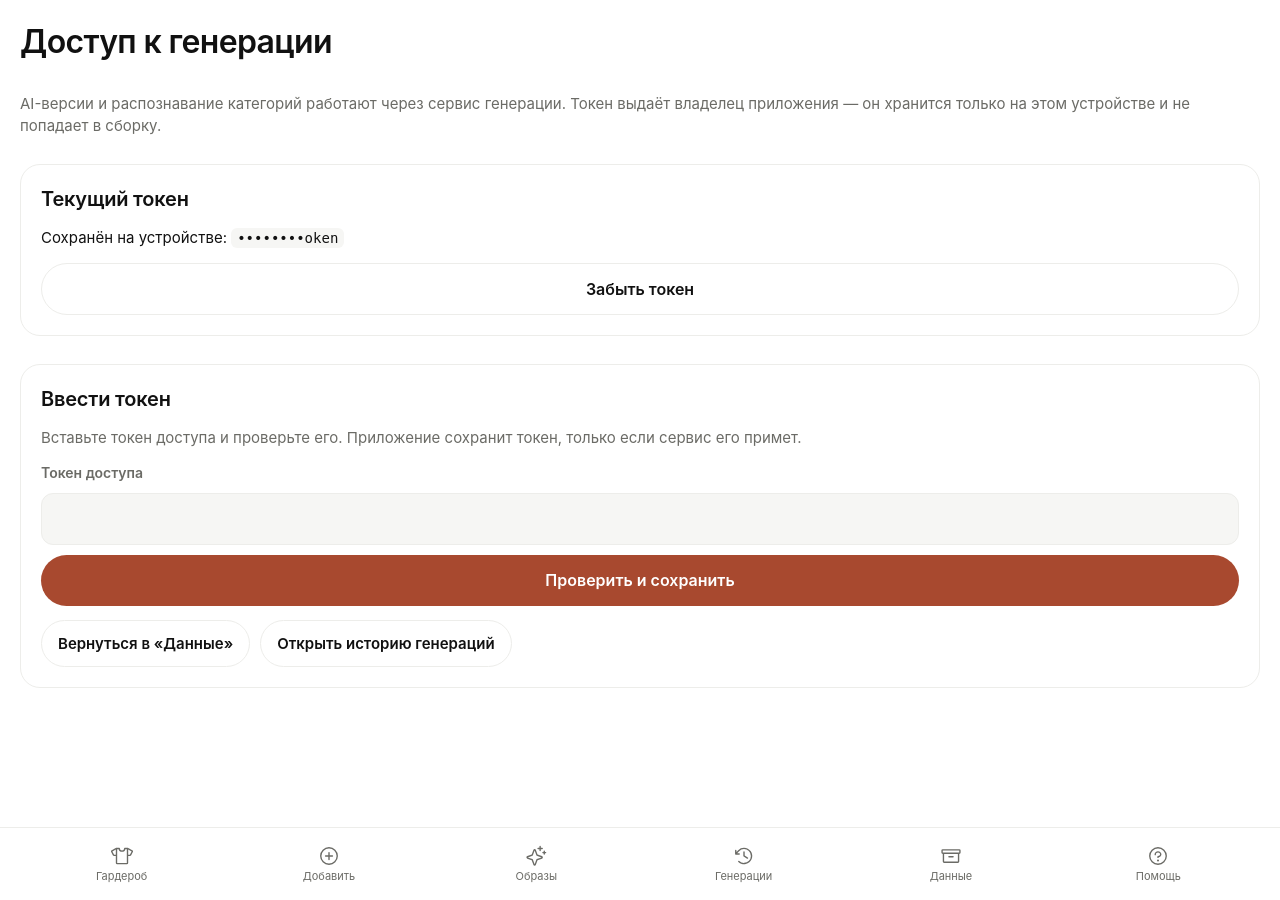
Test case: Экран доступа к генерации (T22) › «Забыть токен» стирает сохранённый токен
The width and height of the screenshot is (1280, 900).
Expected: the text "••••••••oken" is shown, [231,228,344,248]
Click the button "Забыть токен". click: point(640, 289)
box: [41,263,1239,315]
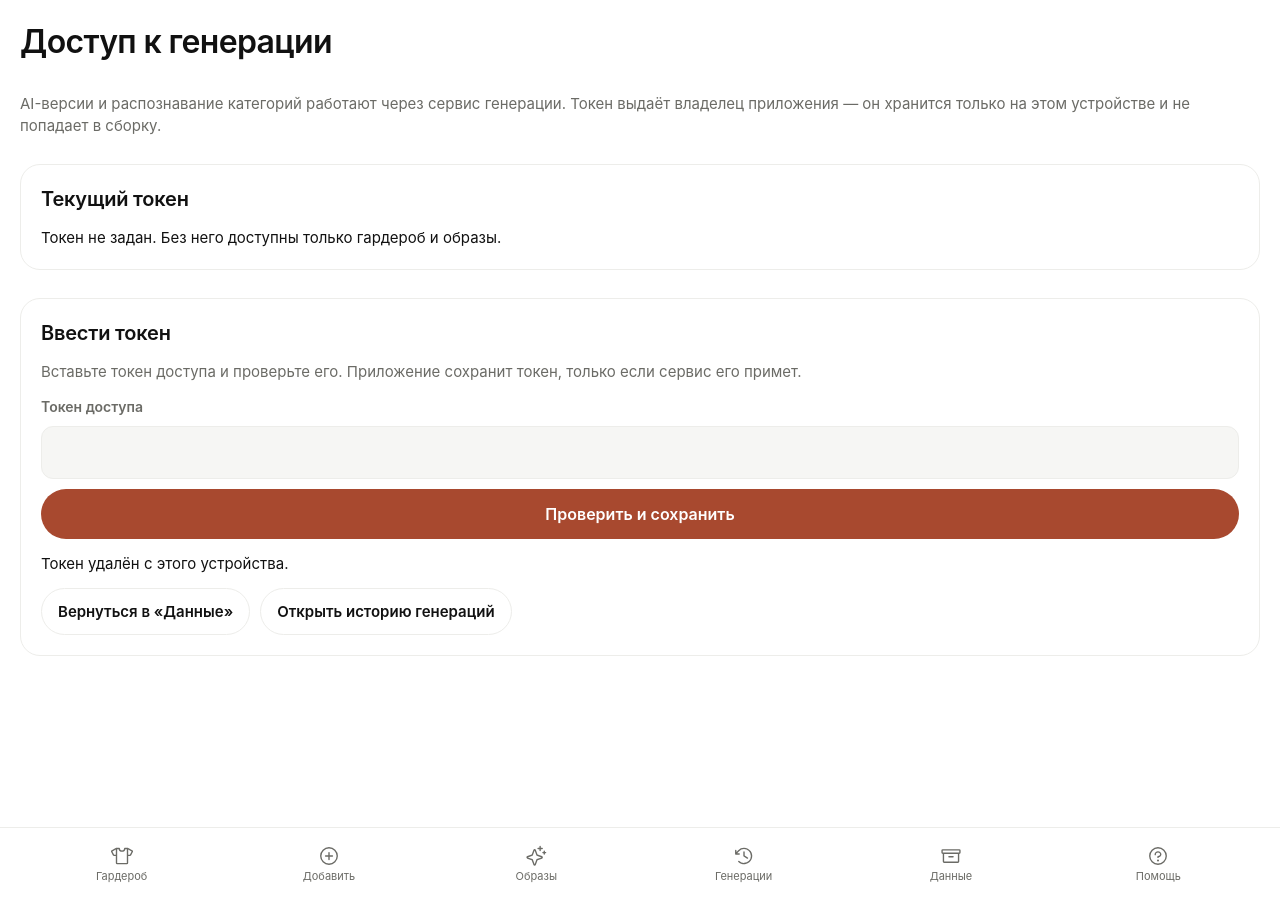
Result: the message reads "Токен удалён с этого устройства." at [41,554,288,573]
Result: the text "Токен не задан. Без него доступны только гардероб и образы." is shown at [41,228,501,247]
